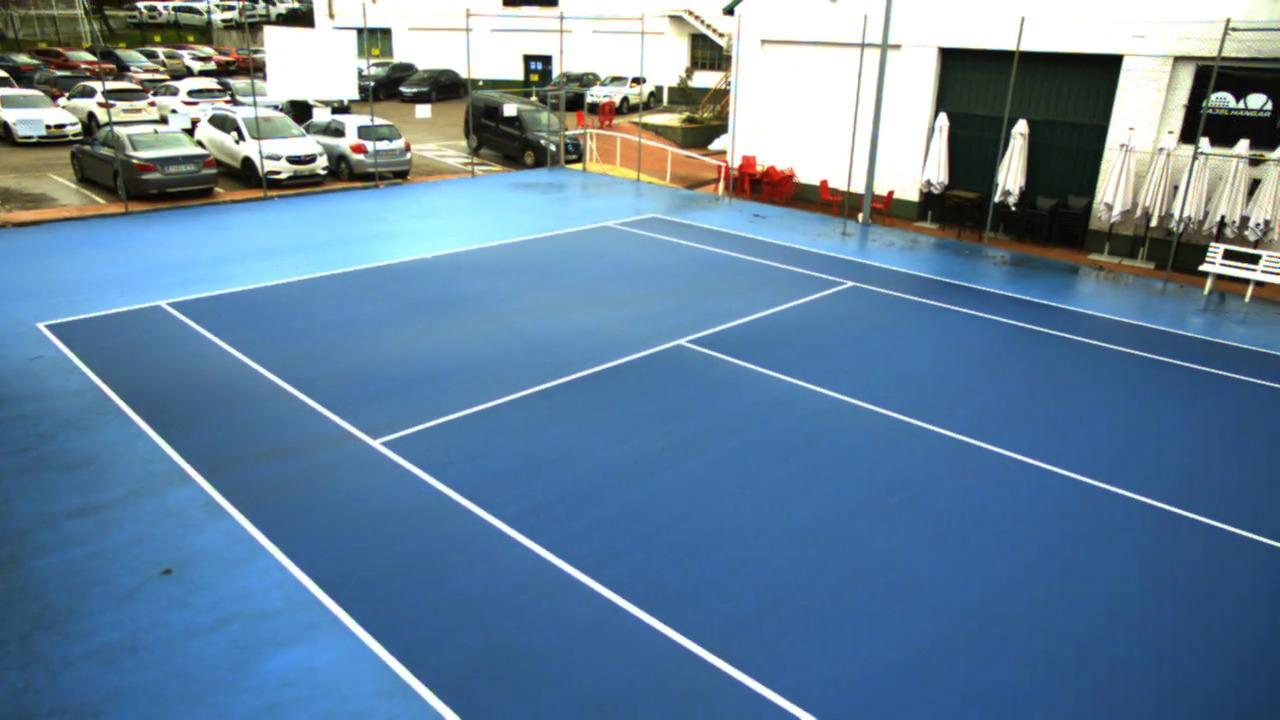cancha_tenis: (161, 222, 1280, 720)
point_f1: (149, 293, 180, 314)
point_f2: (595, 211, 619, 233)
point_fc1: (422, 251, 439, 264)
point_i1: (362, 429, 392, 456)
point_i2: (837, 273, 864, 295)
point_ic1: (669, 329, 698, 356)
